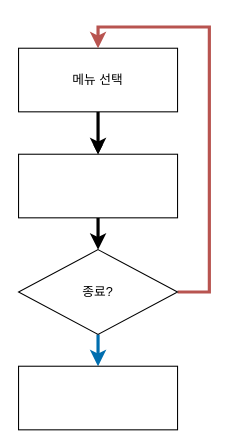
The diagram is 237 pixels wide and 448 high, and some of its shapes have lost their labels. The shapes that lost their labels are listed below. From the top down, each one's centre as x and y in pixels, then its label:
At point (97, 185): "기능 수행".
At point (97, 397): "종료".
